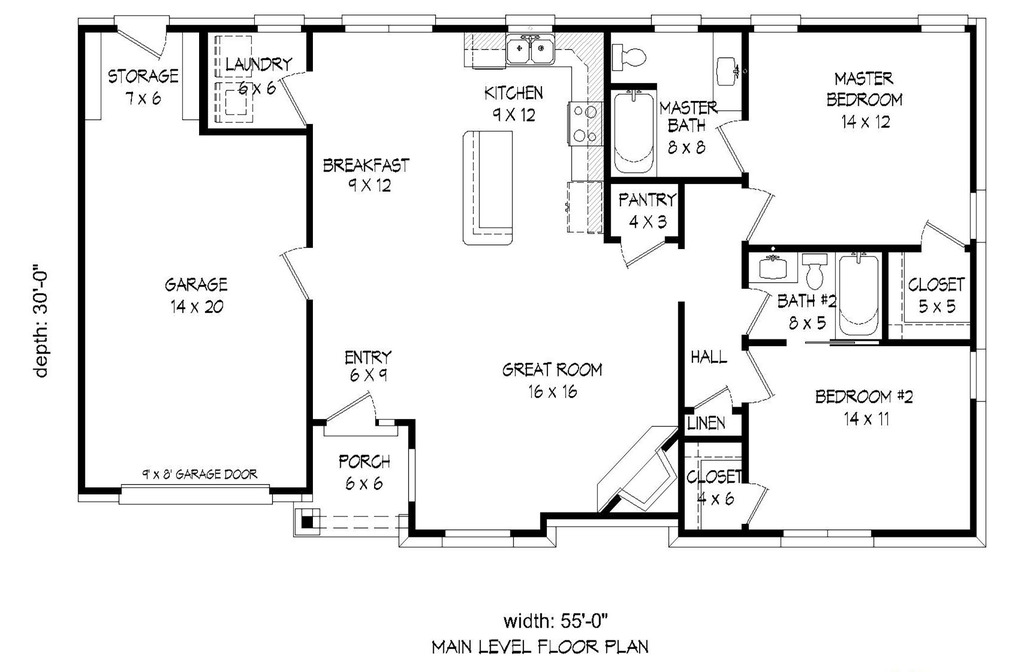door: (314, 378, 392, 438), (735, 348, 784, 407), (275, 236, 315, 306), (115, 15, 177, 59), (717, 112, 755, 178), (282, 65, 315, 130), (744, 280, 777, 341), (740, 181, 771, 244), (915, 217, 965, 252), (741, 484, 771, 526)
kitchen_bar: (450, 118, 515, 265)
large_sink: (605, 36, 662, 73), (794, 248, 830, 293)
small_sink: (712, 32, 743, 109), (745, 244, 800, 282)
tub: (610, 82, 666, 181), (833, 248, 886, 337)
twin_sink: (504, 25, 557, 72)
window: (239, 1, 314, 38), (335, 13, 444, 36), (737, 9, 805, 38), (646, 7, 711, 35), (915, 12, 977, 37), (967, 181, 988, 247), (969, 346, 991, 400)
